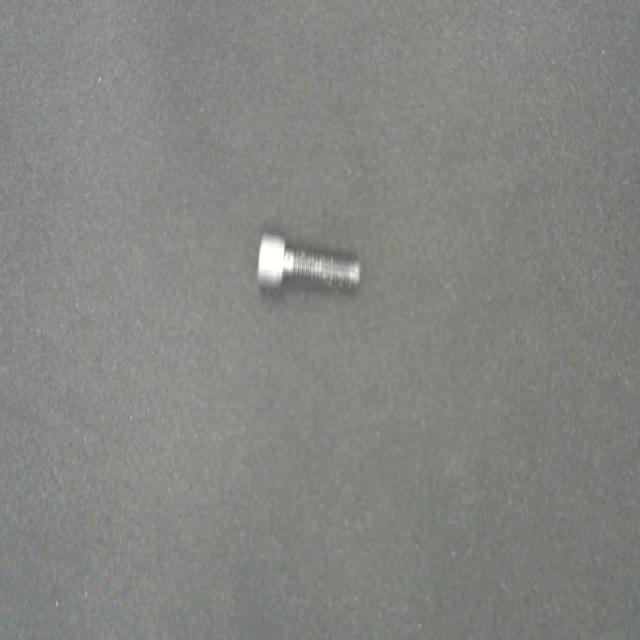SocketHeadCapScrew: (255, 229, 362, 295)
